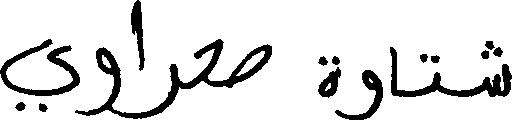X: (0, 34, 79, 118), (81, 42, 120, 119), (341, 65, 381, 119), (232, 39, 272, 91), (482, 36, 511, 101), (146, 59, 177, 119), (196, 34, 223, 91), (132, 0, 144, 119), (319, 51, 339, 119), (391, 42, 397, 100), (433, 50, 439, 96)
